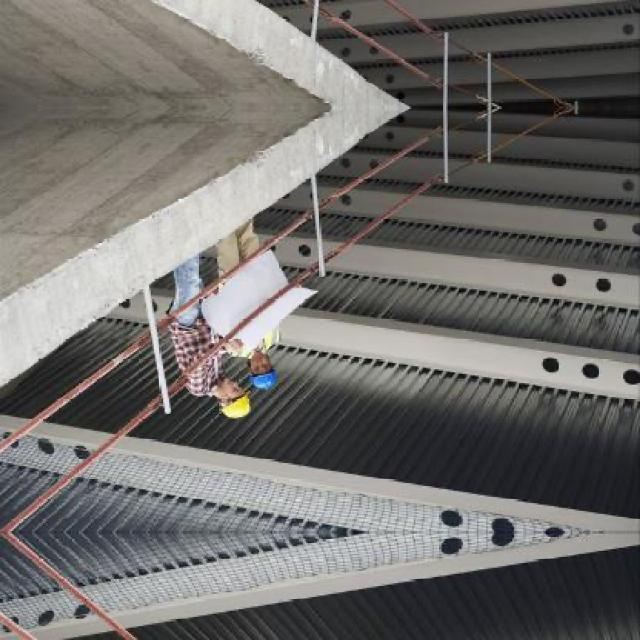con casco: (176, 354, 245, 434), (244, 342, 295, 401)
